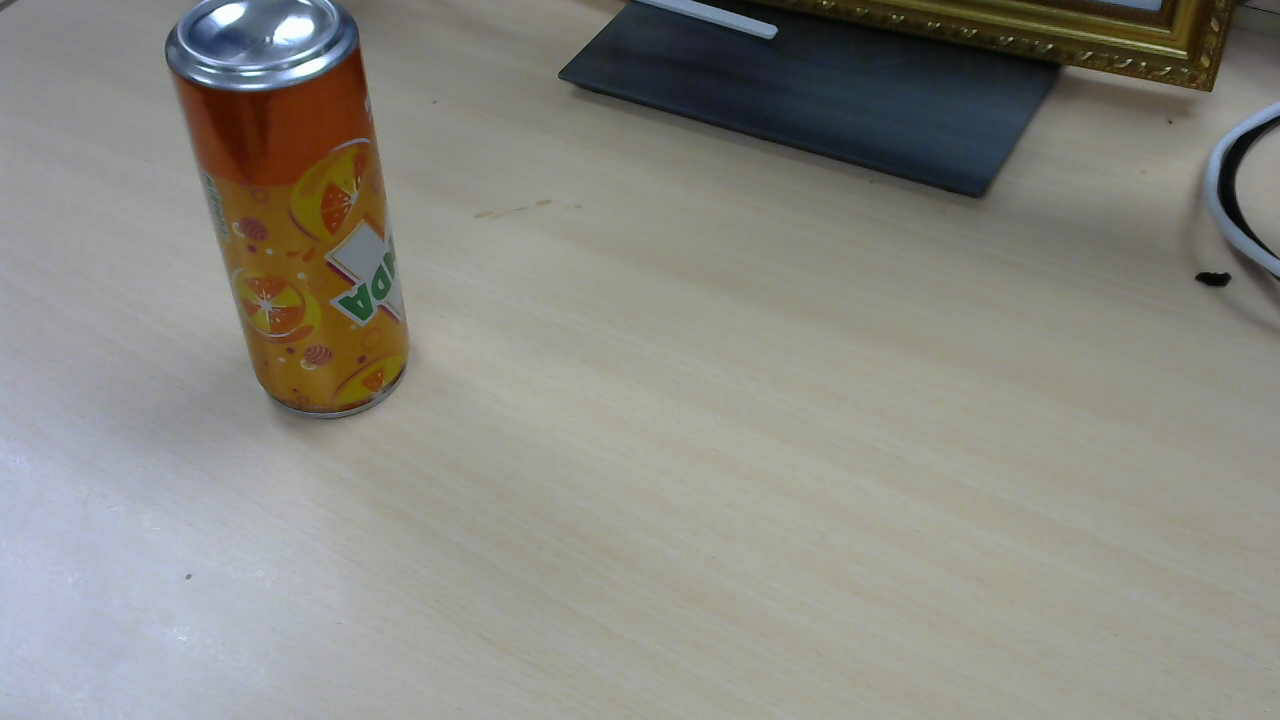Mirinda: (167, 4, 417, 429)
